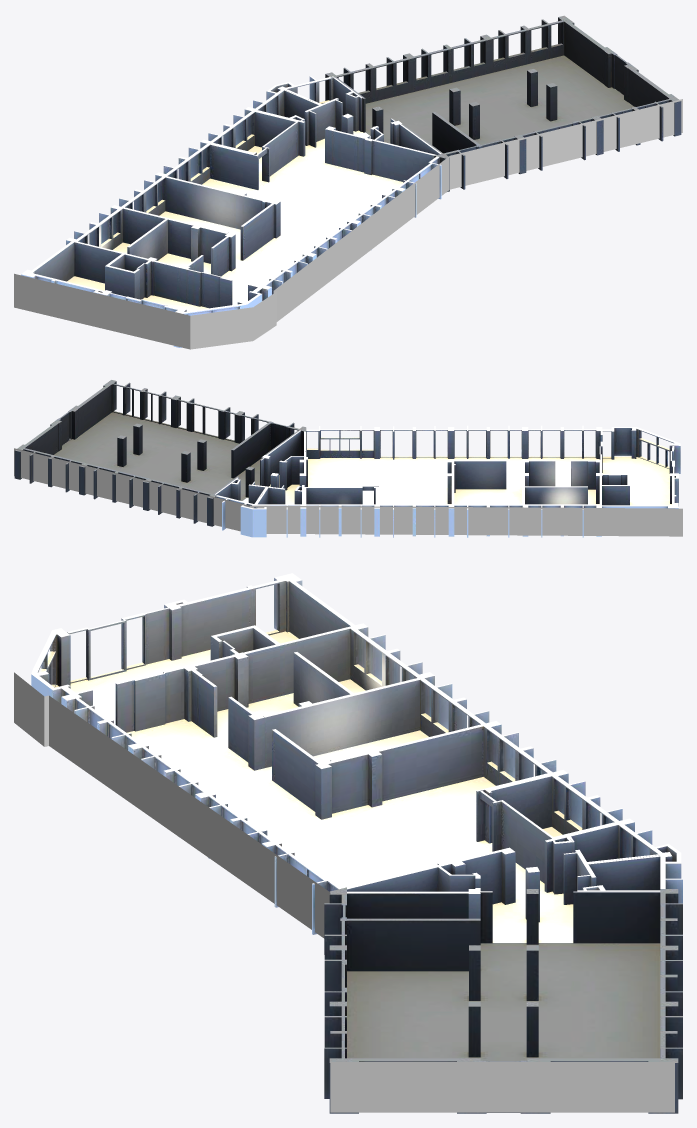
3 renders of one model, top to bottom at view 1: azimuth 30°, elevation 25°; view 2: azimuth 150°, elevation 25°; view 3: azimuth 270°, elevation 25°, orthographic. The views are drawn at different scales.
Visible parts, largest first — view 1: hd_1floor_room01_3, hd_1floor_wlm_1, hd_1floor_room05_7, hd_1floor_room06_8, hd_1floor_room04_6, hd_1floor_room03_5, hd_1_zoulang_2, hd_1floor_room02_4, hd_1floor_room09_11, hd_1floor_room10_12, hd_1floor_room08_10, hd_1floor_room07_9; view 2: hd_1floor_room01_3, hd_1floor_wlm_1, hd_1floor_room05_7, hd_1floor_room06_8, hd_1floor_room04_6, hd_1floor_room03_5, hd_1floor_room02_4, hd_1floor_room10_12, hd_1_zoulang_2, hd_1floor_room09_11, hd_1floor_room08_10, hd_1floor_room07_9; view 3: hd_1floor_room01_3, hd_1floor_room05_7, hd_1floor_wlm_1, hd_1floor_room06_8, hd_1floor_room04_6, hd_1floor_room03_5, hd_1_zoulang_2, hd_1floor_room02_4, hd_1floor_room09_11, hd_1floor_room10_12, hd_1floor_room08_10, hd_1floor_room07_9.
Part boxes in pixels (left/top/right/bottom): hd_1floor_room01_3: left=325, top=15, right=681, bottom=191; hd_1floor_wlm_1: left=14, top=99, right=682, bottom=349; hd_1floor_room05_7: left=163, top=122, right=441, bottom=305; hd_1floor_room06_8: left=21, top=241, right=262, bottom=347; hd_1floor_room04_6: left=66, top=205, right=235, bottom=303; hd_1floor_room03_5: left=119, top=172, right=280, bottom=267; hd_1_zoulang_2: left=277, top=86, right=382, bottom=172; hd_1floor_room02_4: left=200, top=111, right=298, bottom=184; hd_1floor_room09_11: left=275, top=76, right=362, bottom=131; hd_1floor_room10_12: left=244, top=85, right=320, bottom=145; hd_1floor_room08_10: left=374, top=118, right=441, bottom=155; hd_1floor_room07_9: left=107, top=253, right=150, bottom=299; hd_1floor_room01_3: left=14, top=380, right=306, bottom=526; hd_1floor_wlm_1: left=14, top=448, right=682, bottom=536; hd_1floor_room05_7: left=305, top=425, right=602, bottom=537; hd_1floor_room06_8: left=600, top=427, right=680, bottom=508; hd_1floor_room04_6: left=522, top=459, right=602, bottom=537; hd_1floor_room03_5: left=447, top=459, right=523, bottom=537; hd_1floor_room02_4: left=304, top=487, right=379, bottom=537; hd_1floor_room10_12: left=252, top=487, right=306, bottom=537; hd_1_zoulang_2: left=242, top=456, right=306, bottom=508; hd_1floor_room09_11: left=215, top=477, right=266, bottom=537; hd_1floor_room08_10: left=260, top=430, right=305, bottom=487; hd_1floor_room07_9: left=600, top=474, right=628, bottom=485; hd_1floor_room01_3: left=324, top=887, right=682, bottom=1113; hd_1floor_room05_7: left=61, top=668, right=556, bottom=934; hd_1floor_wlm_1: left=14, top=672, right=674, bottom=1112; hd_1floor_room06_8: left=31, top=573, right=354, bottom=732; hd_1floor_room04_6: left=183, top=623, right=434, bottom=770; hd_1floor_room03_5: left=255, top=678, right=501, bottom=819; hd_1_zoulang_2: left=439, top=835, right=672, bottom=942; hd_1floor_room02_4: left=487, top=770, right=622, bottom=844; hd_1floor_room09_11: left=577, top=853, right=682, bottom=903; hd_1floor_room10_12: left=567, top=818, right=680, bottom=863; hd_1floor_room08_10: left=347, top=866, right=492, bottom=918; hd_1floor_room07_9: left=214, top=626, right=278, bottom=657.
Bounding box in the file's own units: 8.06 × 0.401 × 4.6.
Materials: 12 (11 with a texture image).
